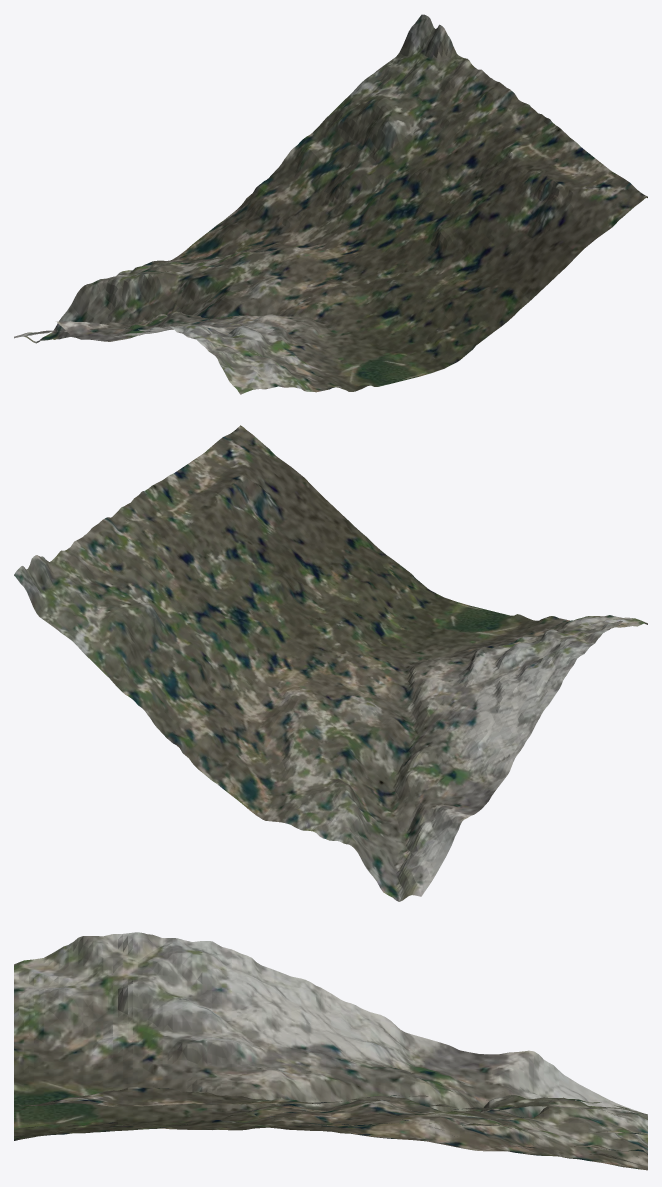
3 renders of one model, top to bottom at view 1: azimuth 30°, elevation 25°; view 2: azimuth 150°, elevation 25°; view 3: azimuth 270°, elevation 25°, orthographic. The views are drawn at different scales.
Bounding box in the file's own units: 250 × 140 × 241.
Materials: 1 (1 with a texture image).
